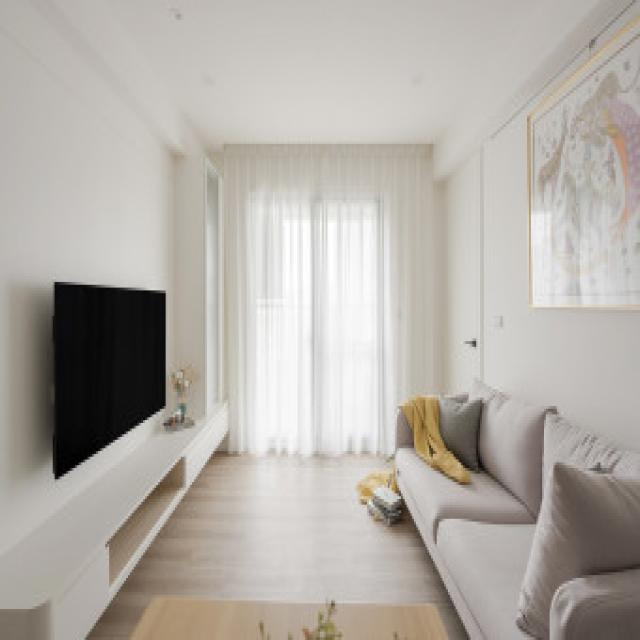Sofa: (399, 372, 640, 636)
tv: (52, 279, 168, 471)
window: (209, 147, 415, 436)
